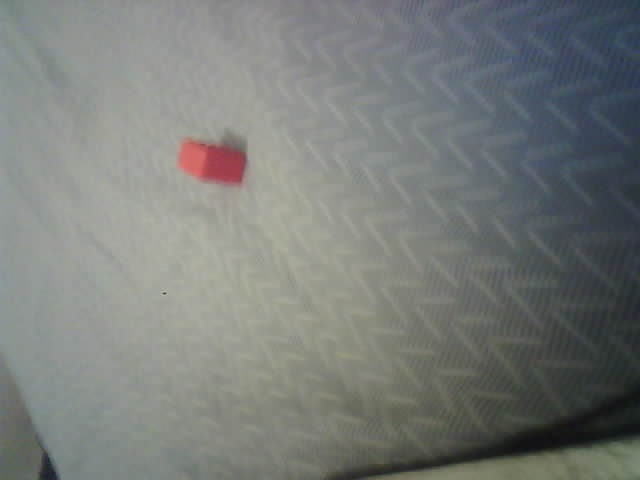lego: (176, 140, 246, 185)
